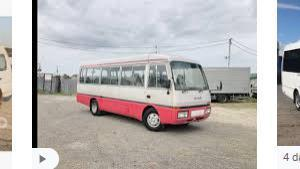bus: (77, 52, 212, 131)
